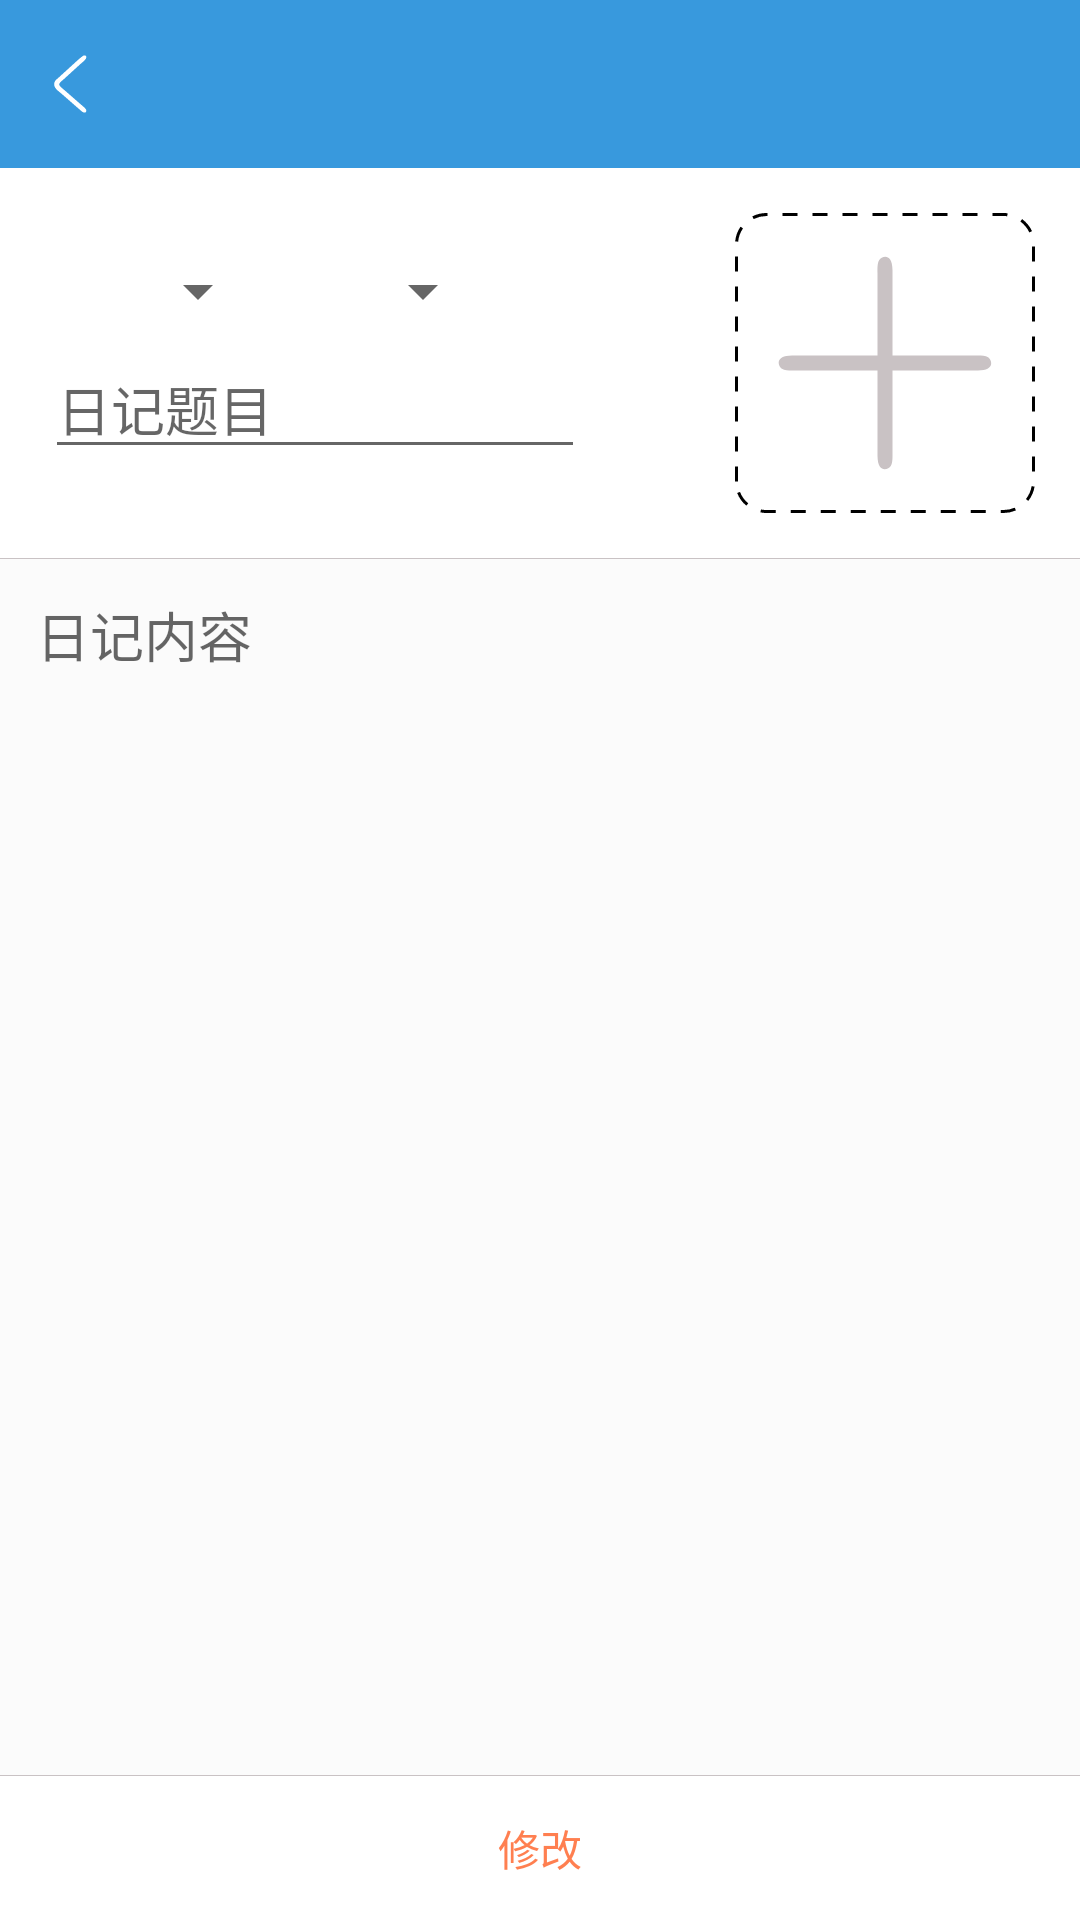

Named icons in this screenshot (1080x1920) and their centers, (x,y):
back to lists: (70,84)
